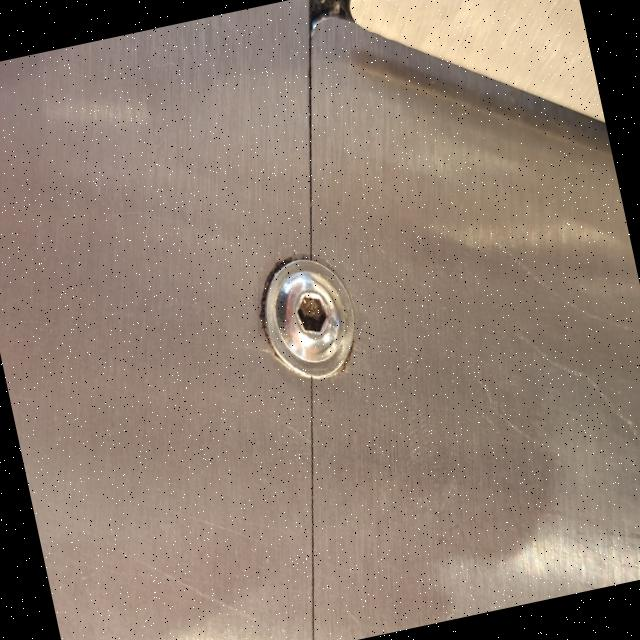Hex Socket Allen: (234, 232, 380, 398)
